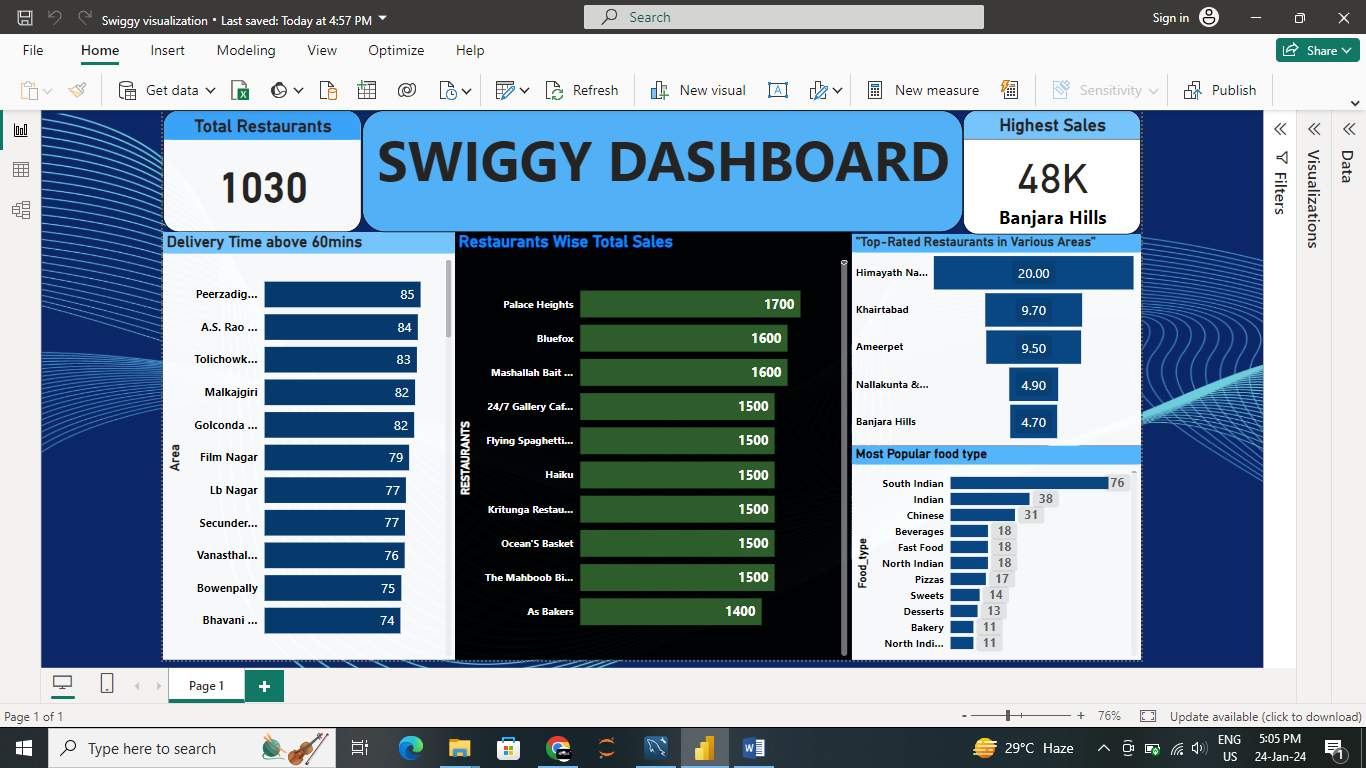

The dashboard page shown, as its layout file describes it:
{"tool":"powerbi","page":{"name":"Page 1","canvas":[1280,720],"ordinal":0},"visuals":[{"type":"card","title":"Total Restaurants","fields":{"Values":["Sum(1  total cities.TotalRestaurants)"]},"box":[0,0,260,160],"z":0},{"type":"funnel","title":" \"Top-Rated Restaurants in Various Areas\"","fields":{"Y":["Sum(2  top 10 areas with highest ratings.AverageRating)"],"Category":["2  top 10 areas with highest ratings.Area"]},"box":[901.4,162.9,378.6,277.1],"z":1000},{"type":"clusteredBarChart","title":"Most Popular food type","fields":{"Category":["3  Most popular food count.Food_type"],"Y":["Sum(3  Most popular food count.OrderCount)"]},"box":[901.4,440,378.6,280],"z":2000},{"type":"clusteredBarChart","title":"Delivery Time above 60mins","fields":{"Category":["4  Delivery time above 60mins.Area"],"Y":["Avg(4  Delivery time above 60mins.AverageDeliveryTime)"]},"box":[0,160,382.9,560],"z":3000},{"type":"textbox","box":[260,0,787.1,160],"z":4000},{"type":"clusteredBarChart","title":"Restaurants Wise Total Sales","fields":{"Category":["5 Restaurant wise  total sales.Restaurant"],"Y":["Sum(5 Restaurant wise  total sales.TotalSales)"]},"box":[382.9,160,518.6,560],"z":5000},{"type":"card","title":"Highest Sales","fields":{"Values":["Sum(7 Find the area with the highest total sales.TotalSales)"]},"box":[1047.1,0,232.9,162.9],"z":5001}]}

Visuals, with their boxes on the page's 1280x720 design canvas (x1, y1, x2, y2). These are canvas units, not pixel positions in the 1366x768 screenshot, which may show the page scaled, cropped or inside an application window:
"Total Restaurants" card: [0, 0, 260, 160]
" "Top-Rated Restaurants in Various Areas"" funnel: [901, 163, 1280, 440]
"Most Popular food type" clusteredBarChart: [901, 440, 1280, 720]
"Delivery Time above 60mins" clusteredBarChart: [0, 160, 383, 720]
textbox: [260, 0, 1047, 160]
"Restaurants Wise Total Sales" clusteredBarChart: [383, 160, 902, 720]
"Highest Sales" card: [1047, 0, 1280, 163]
